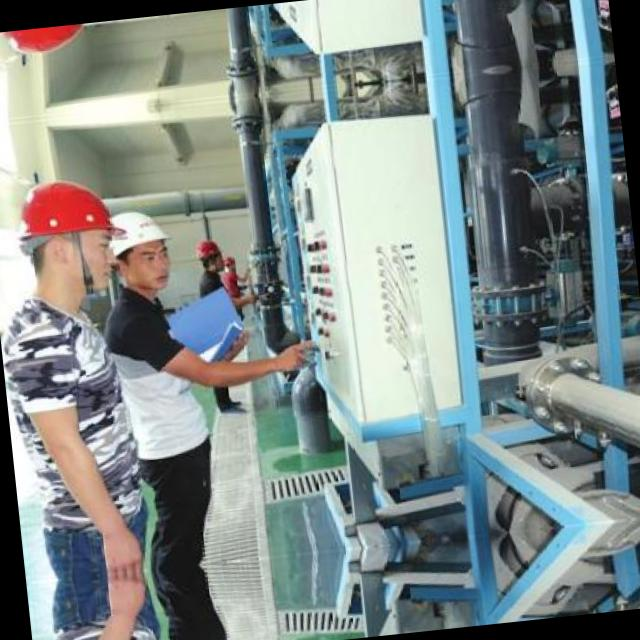helmet: (12, 173, 124, 303), (94, 201, 178, 298), (0, 22, 100, 60), (193, 232, 226, 272), (223, 252, 238, 273)
